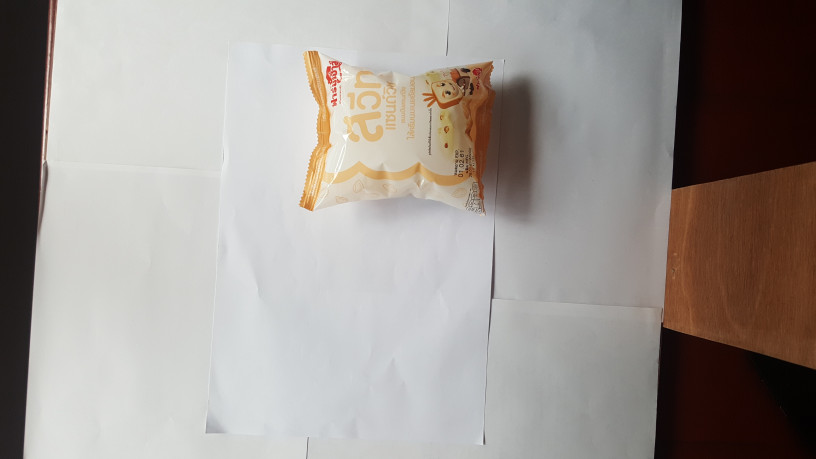farmhouse-sweetsandwich-almond: (288, 38, 502, 233)
